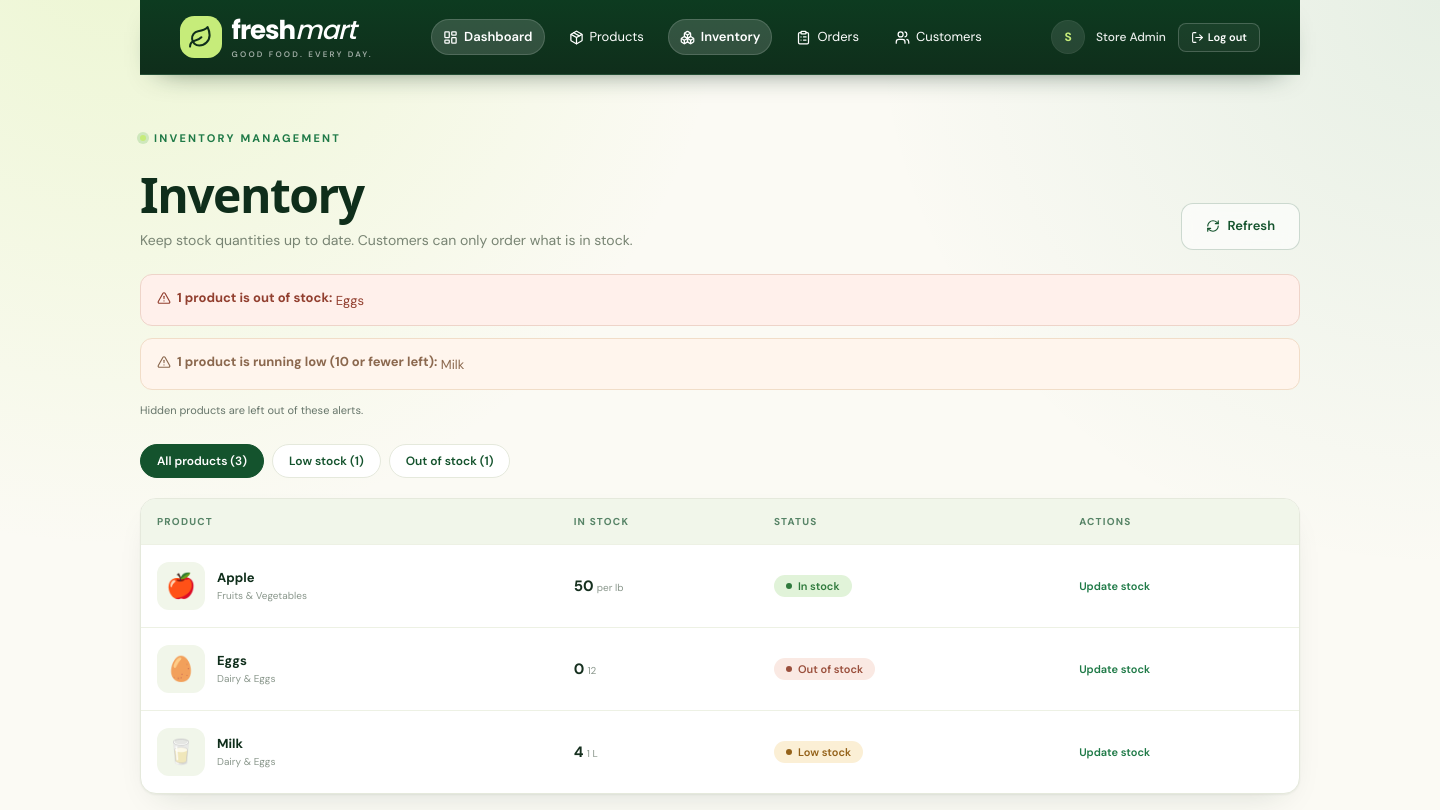
Test: Sprint 4: admin screens › inventory warns about low and sold-out products and edits stock on its own page
Expected: the table is shown, [141,499,1299,793]
Click the link "Update stock" in the row of "1 L" at (1115, 752), box [1079,745,1150,760]
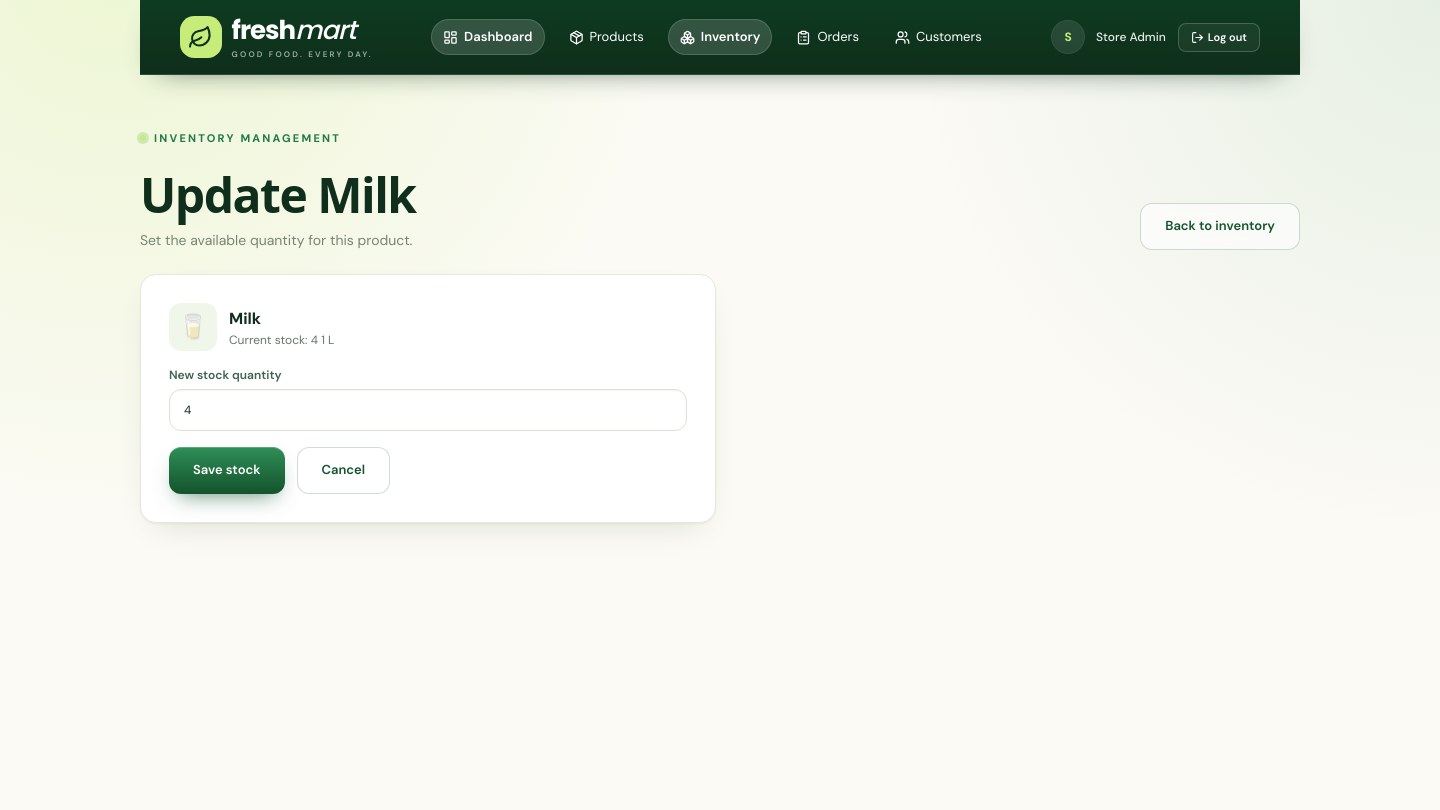
Replace the text in the field labelled "New stock quantity" with "-3" at (428, 410), box [169,389,687,431]
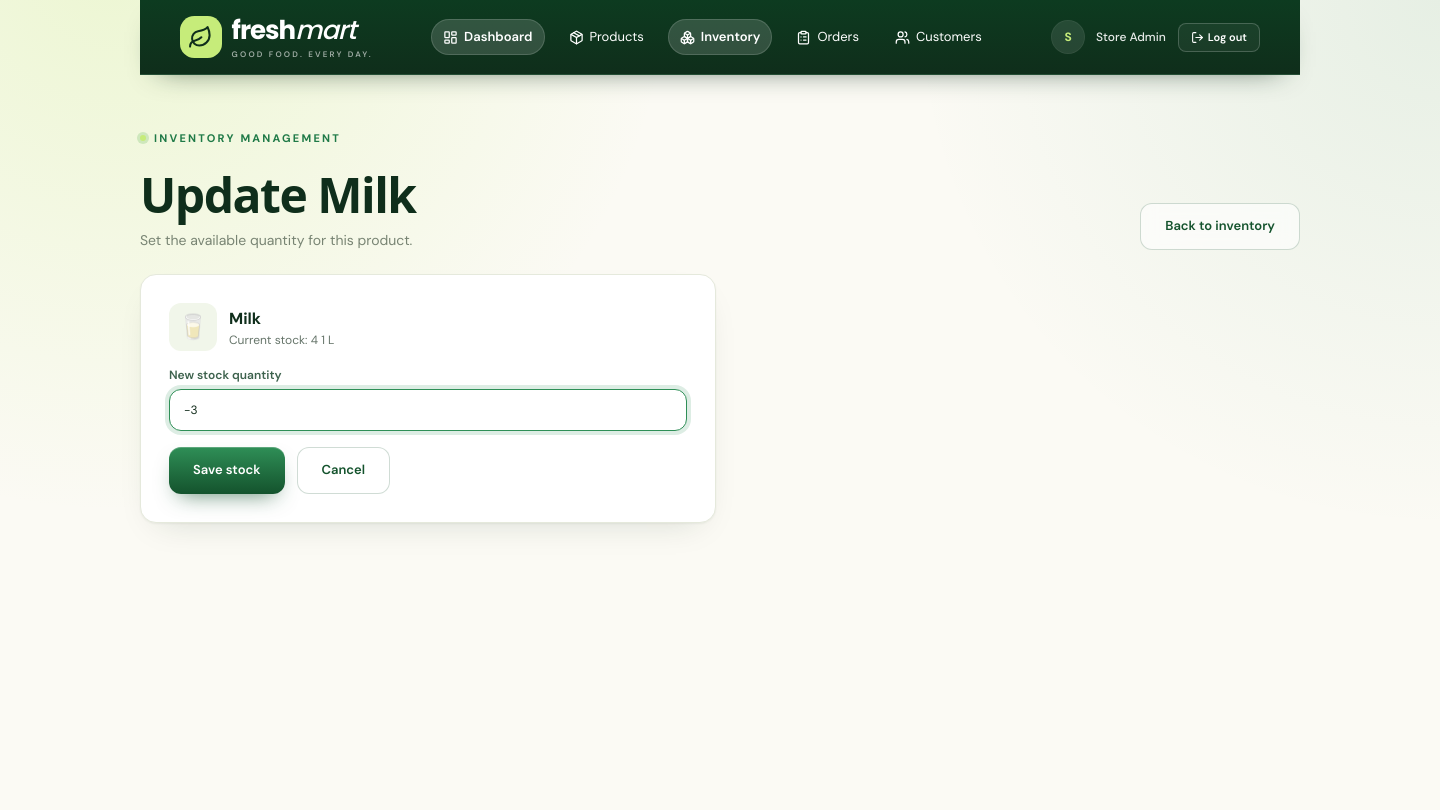
Click the button "Save stock" at (227, 470), box [169,447,284,494]
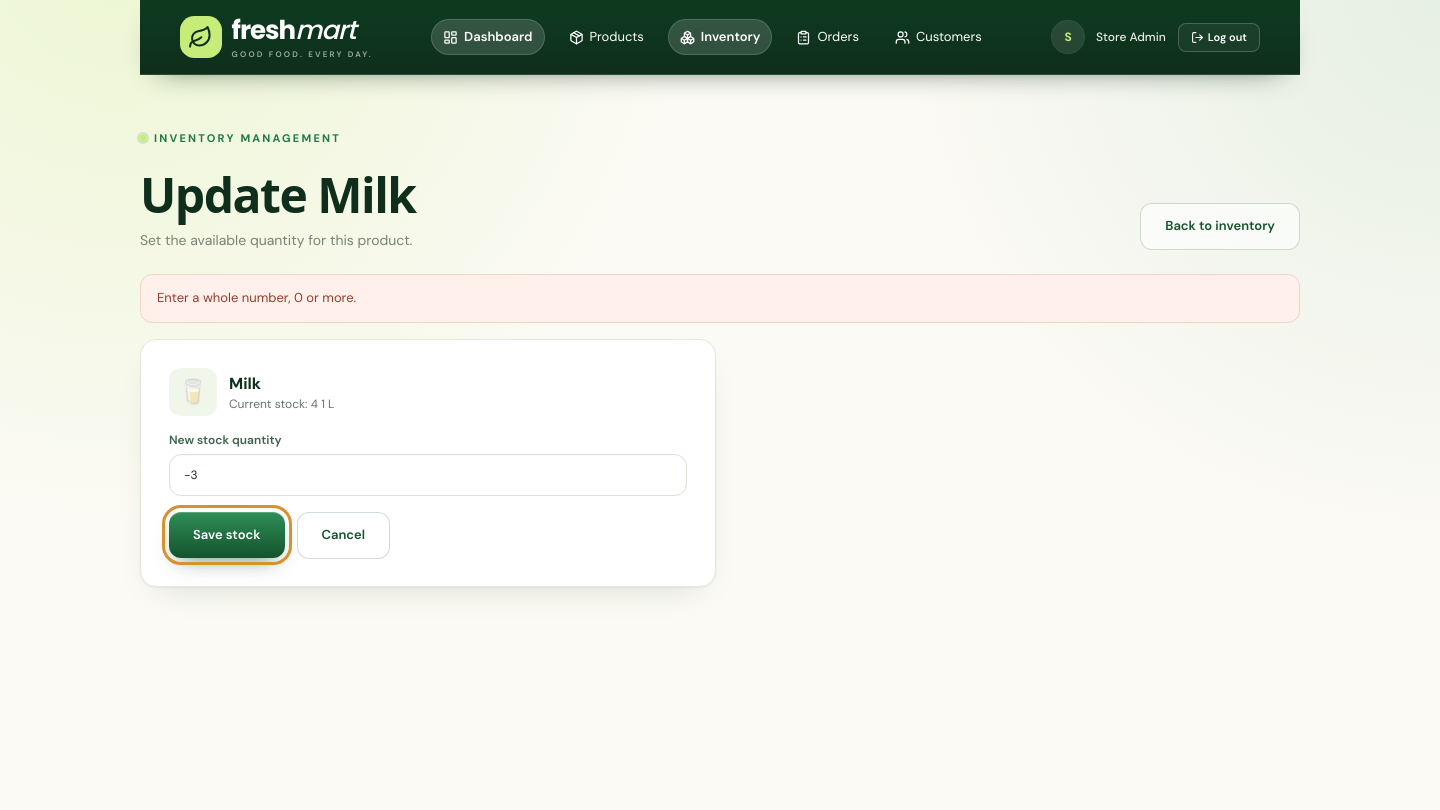
Now the text "Enter a whole number, 0 or more." is shown, box [140,274,1300,323]
Replace the text in the field labelled "New stock quantity" with "25" at (428, 475), box [169,454,687,496]
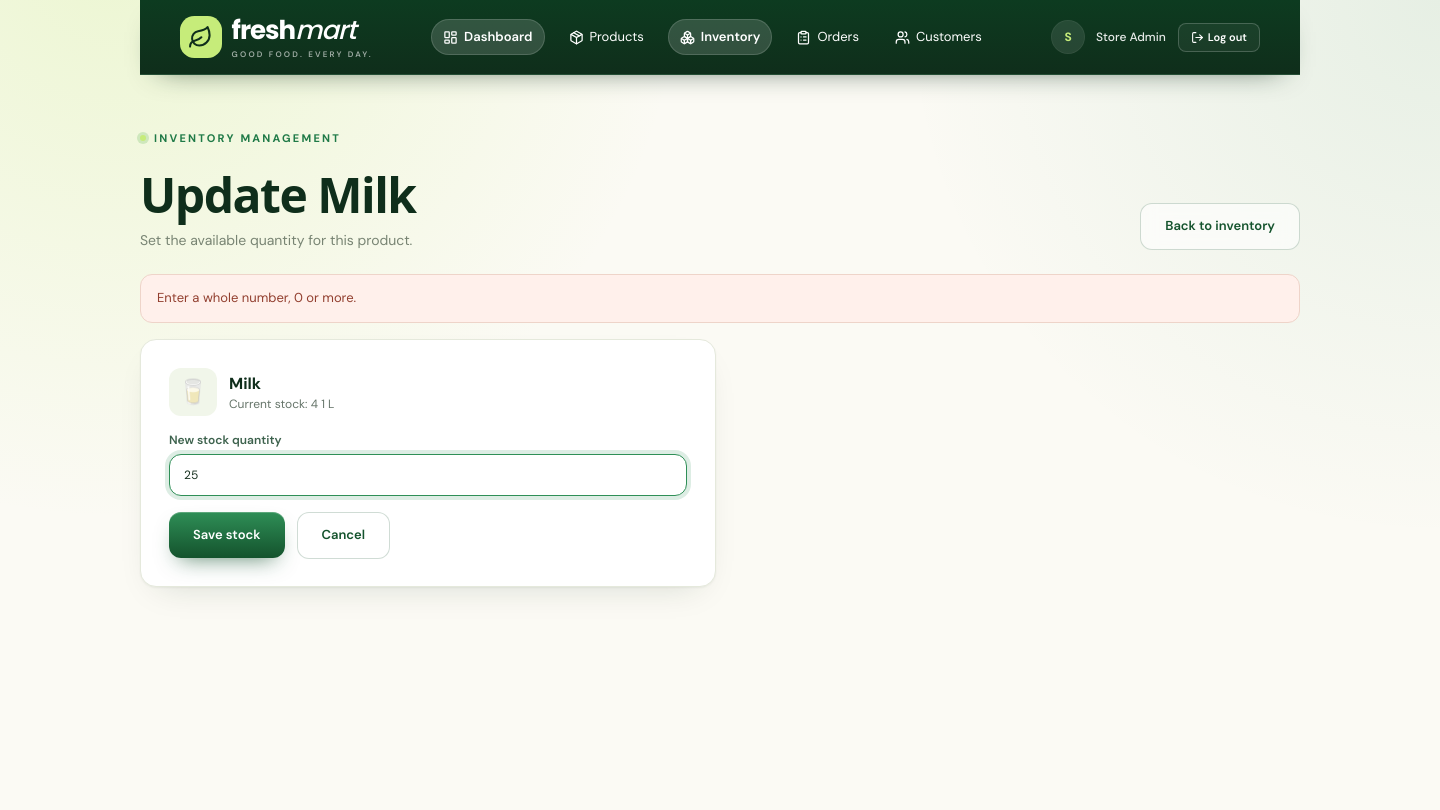
Click the button "Save stock" at (227, 535), box [169,512,284,558]
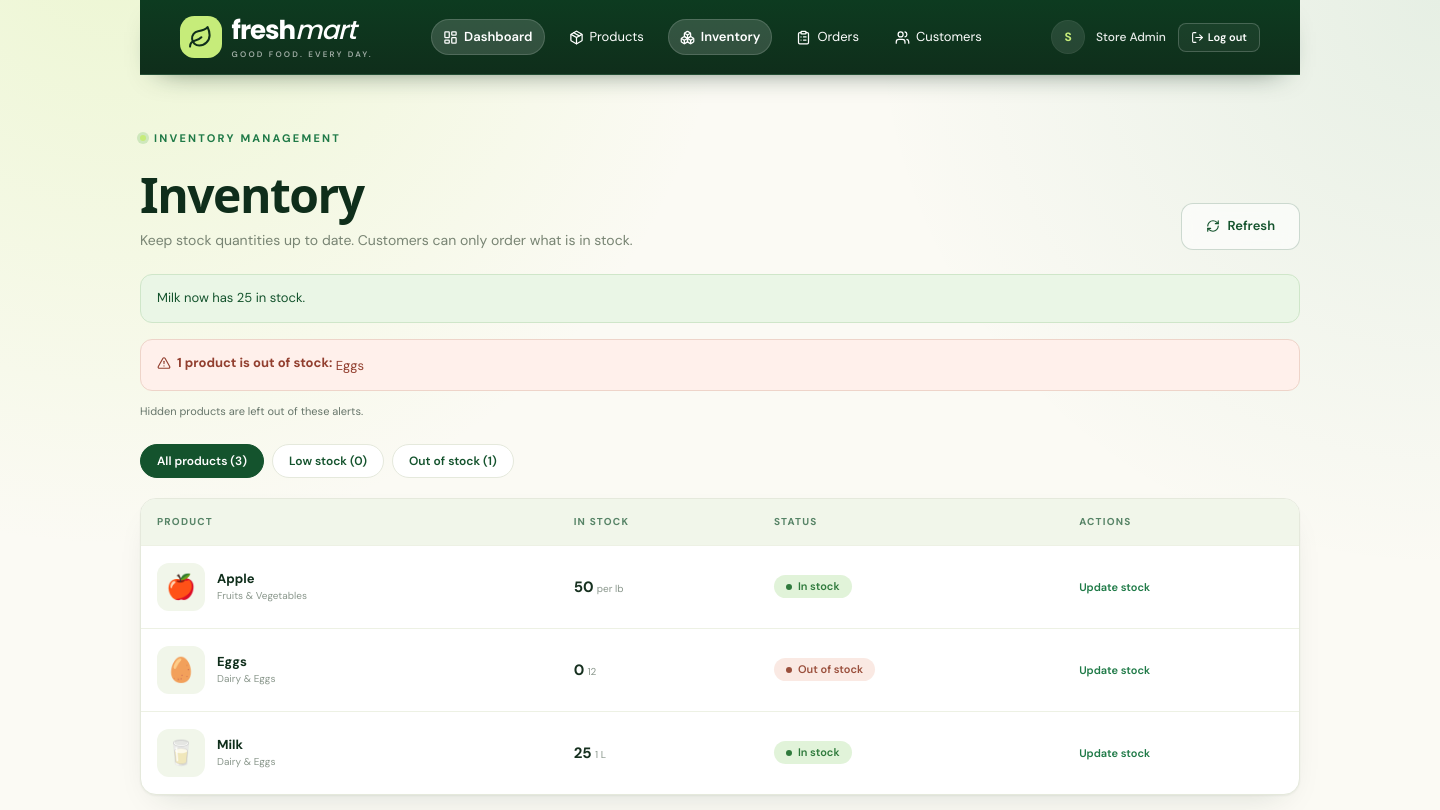
Now the text "Milk now has 25 in stock." is shown, box [140,274,1300,323]
Now the text "25" is shown, box [574,743,592,763]
Now the label labelled "New stock quantity" is gone
